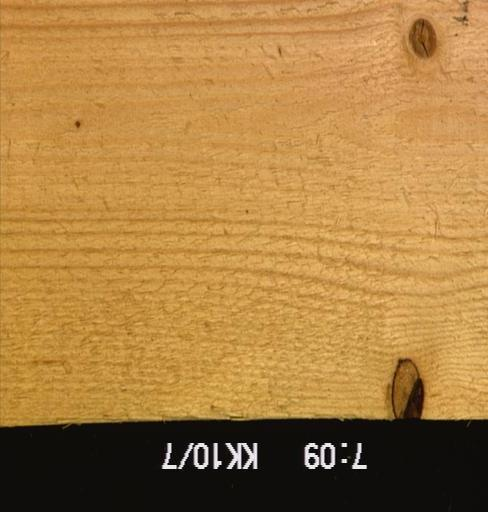small_knot: (61, 115, 121, 175)
sound_knot: (406, 17, 437, 60)
